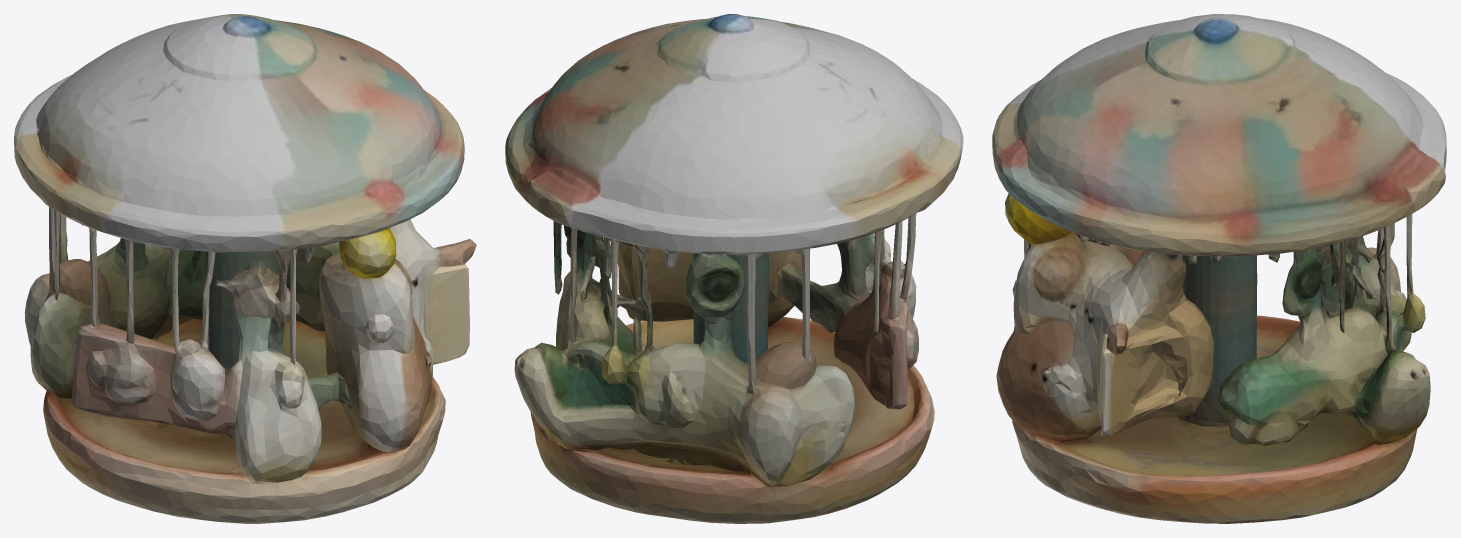
3 renders of one model, left to right at view 1: azimuth 30°, elevation 25°; view 2: azimuth 150°, elevation 25°; view 3: azimuth 270°, elevation 25°, orthographic.
Visible parts, largest first — view 1: geometry_0; view 2: geometry_0; view 3: geometry_0.
Boxes of the visible parts, left/top/right/bottom form: geometry_0: left=14, top=14, right=476, bottom=523; geometry_0: left=505, top=14, right=963, bottom=523; geometry_0: left=992, top=14, right=1446, bottom=523.
Bounding box in the file's own units: 0.5334 × 0.556 × 0.5346.
Materials: 1 (1 with a texture image).
